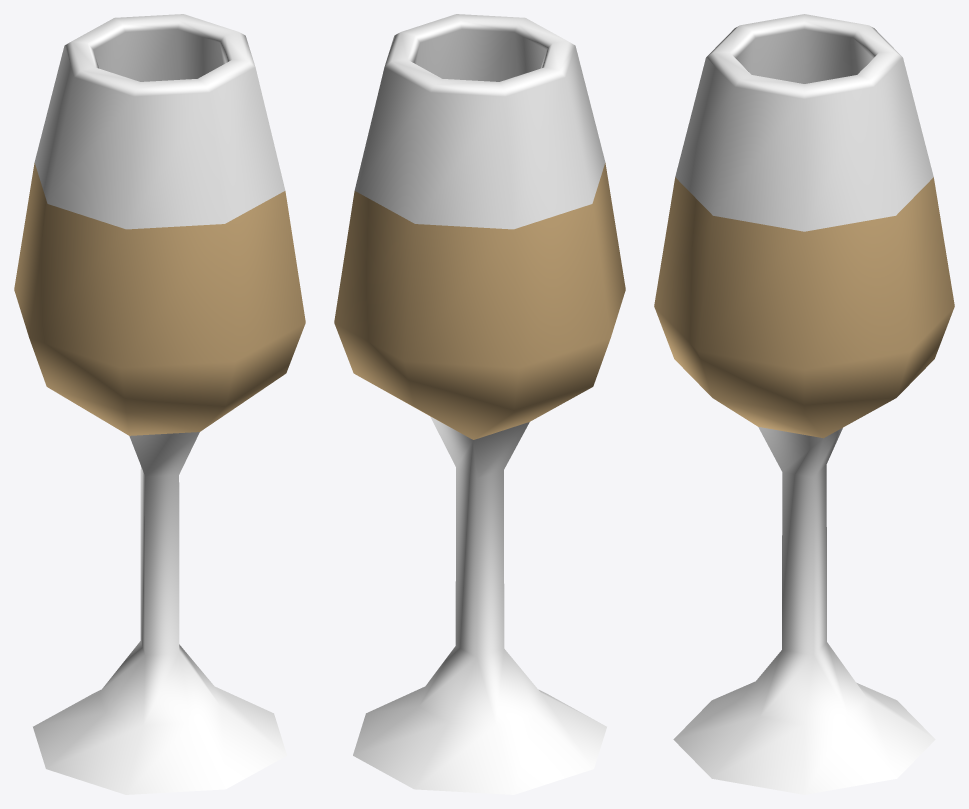
Rendered from prop_001.fbx.
The picture shows the model from 3 angles, left to right: view 1: azimuth 30°, elevation 25°; view 2: azimuth 150°, elevation 25°; view 3: azimuth 270°, elevation 25°; orthographic projection.
Parts seen in each view (by area): view 1: prop_001; view 2: prop_001; view 3: prop_001.
Part boxes in pixels (box(x1,y1,x2,y2)): prop_001: box(14, 14, 305, 794); prop_001: box(334, 14, 625, 794); prop_001: box(654, 14, 954, 794).
Size of the model in its own units: 13.5 by 13.5 by 34.02.
